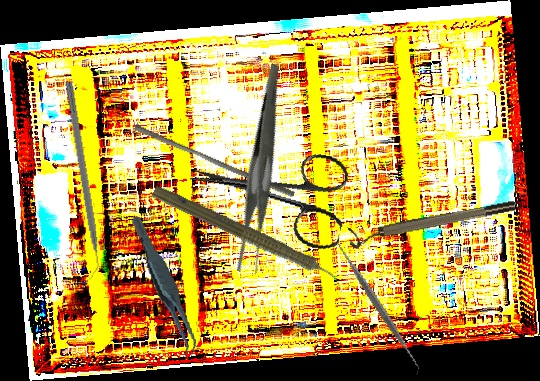Chopper: (55, 81, 104, 281)
Dressing Forceps: (183, 63, 343, 279)
Fixation Ring: (347, 197, 518, 250)
Handpiece: (147, 181, 352, 295)
Iris Scissors: (181, 130, 355, 253)
Pusher: (131, 123, 298, 198)
Spatula Surgical: (306, 233, 450, 376)
Tissue Forceps: (131, 210, 199, 364)
